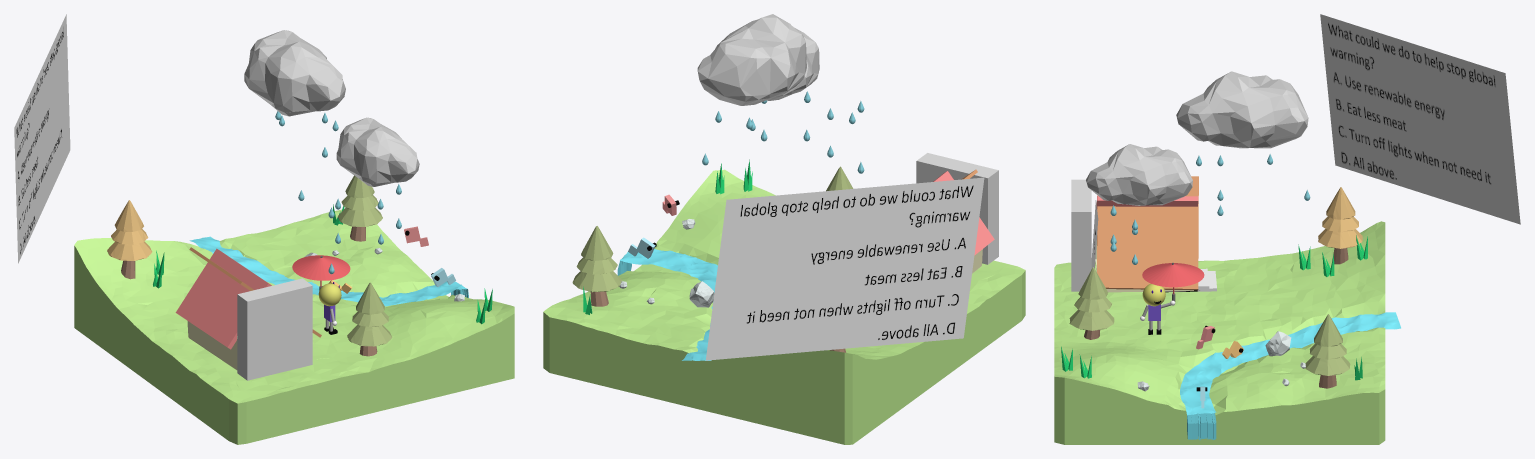
Rendered from rainQ8.glb.
The picture shows the model from 3 angles, left to right: view 1: azimuth 30°, elevation 25°; view 2: azimuth 150°, elevation 25°; view 3: azimuth 270°, elevation 25°; orthographic projection. The views are drawn at different scales.
Visible parts, largest first — view 1: terrain, pPlane2, Cube, cloud, house:pCube6, clouds:pPlatonic1, water, umbrella:Mesh, house:pCube4, pCylinder1, trees:pCylinder8, trees:pCylinder1 (+2 smaller); view 2: terrain, pPlane2, cloud, Cube, water, clouds:pPlatonic1, trees:pCylinder1, trees:pCylinder4, trees:pCylinder3, stone:pPlatonic2, house:pCube6; view 3: terrain, pPlane2, cloud, house:pCube5, clouds:pPlatonic1, water, Cube, umbrella:Mesh, pCylinder1, trees:pCylinder8, trees:pCylinder1, trees:pCylinder7 (+7 smaller).
Boxes of the visible parts, x1=… form: terrain: x1=74, y1=209, x2=514, y2=444; pPlane2: x1=14, y1=14, x2=70, y2=263; Cube: x1=237, y1=278, x2=312, y2=380; cloud: x1=244, y1=30, x2=345, y2=116; house:pCube6: x1=175, y1=248, x2=271, y2=349; clouds:pPlatonic1: x1=336, y1=117, x2=419, y2=186; water: x1=189, y1=236, x2=468, y2=306; umbrella:Mesh: x1=292, y1=255, x2=350, y2=286; house:pCube4: x1=187, y1=321, x2=237, y2=369; pCylinder1: x1=347, y1=324, x2=392, y2=346; trees:pCylinder8: x1=107, y1=241, x2=152, y2=260; trees:pCylinder1: x1=338, y1=207, x2=382, y2=226; terrain: x1=543, y1=169, x2=1025, y2=444; pPlane2: x1=705, y1=177, x2=984, y2=360; cloud: x1=697, y1=14, x2=806, y2=105; Cube: x1=916, y1=153, x2=998, y2=264; water: x1=617, y1=249, x2=717, y2=360; clouds:pPlatonic1: x1=767, y1=27, x2=819, y2=100; trees:pCylinder1: x1=572, y1=271, x2=622, y2=292; trees:pCylinder4: x1=581, y1=226, x2=613, y2=260; trees:pCylinder3: x1=576, y1=257, x2=617, y2=274; stone:pPlatonic2: x1=689, y1=281, x2=714, y2=307; house:pCube6: x1=933, y1=171, x2=994, y2=255; terrain: x1=1054, y1=221, x2=1385, y2=444; pPlane2: x1=1320, y1=14, x2=1520, y2=224; cloud: x1=1176, y1=71, x2=1308, y2=148; house:pCube5: x1=1097, y1=176, x2=1198, y2=290; clouds:pPlatonic1: x1=1086, y1=144, x2=1192, y2=205; water: x1=1180, y1=312, x2=1400, y2=440; Cube: x1=1071, y1=179, x2=1091, y2=291; umbrella:Mesh: x1=1142, y1=263, x2=1204, y2=294; pCylinder1: x1=1069, y1=310, x2=1114, y2=330; trees:pCylinder8: x1=1318, y1=228, x2=1362, y2=248; trees:pCylinder1: x1=1305, y1=356, x2=1350, y2=375; trees:pCylinder7: x1=1326, y1=187, x2=1355, y2=219.
Size of the model in its own units: 0.4613 by 0.3485 by 0.4738.
Materials: 30 (3 with a texture image).
